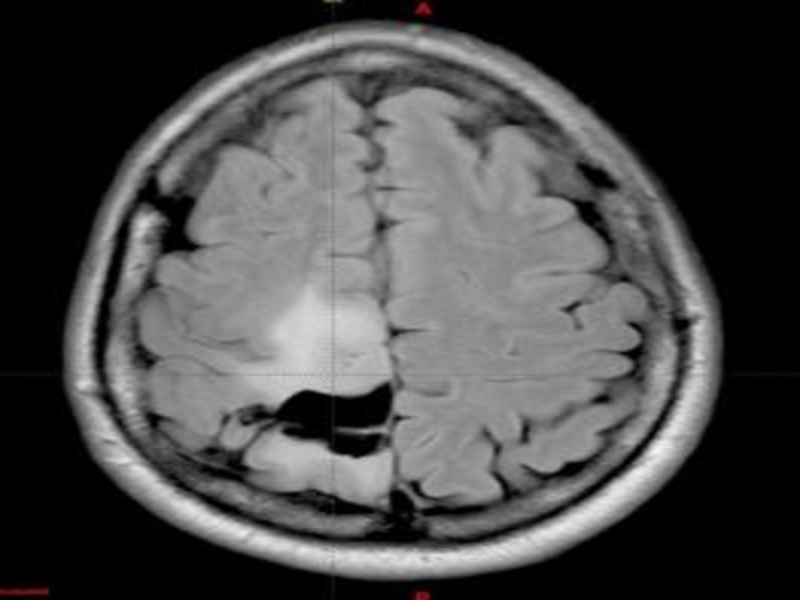tumor: (261, 380, 398, 464)
